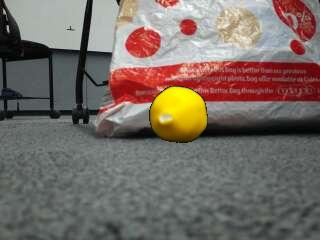lemon: (152, 88, 208, 144)
